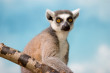cat: (21, 9, 79, 72)
